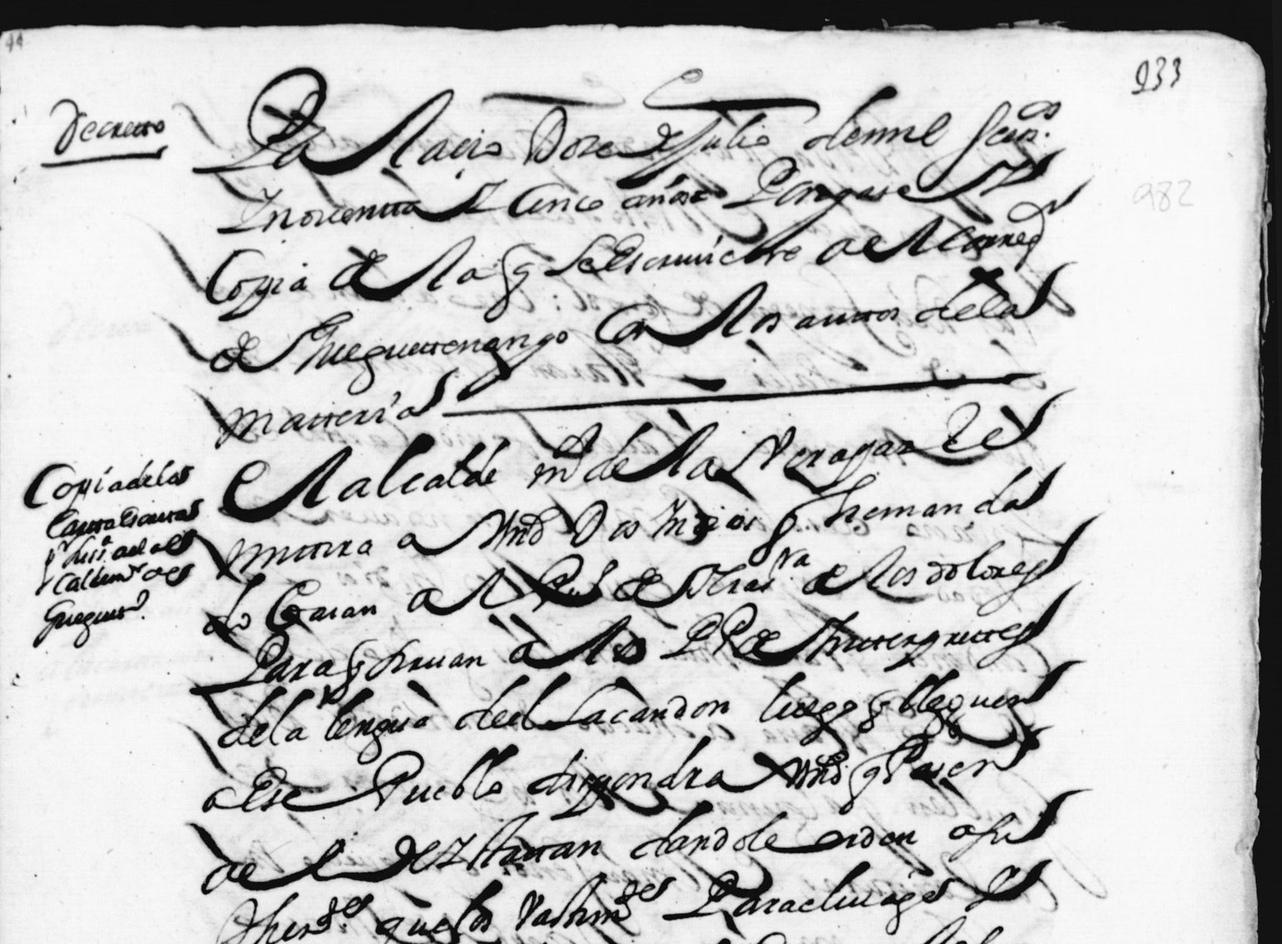lacandon: (542, 683, 730, 730)
